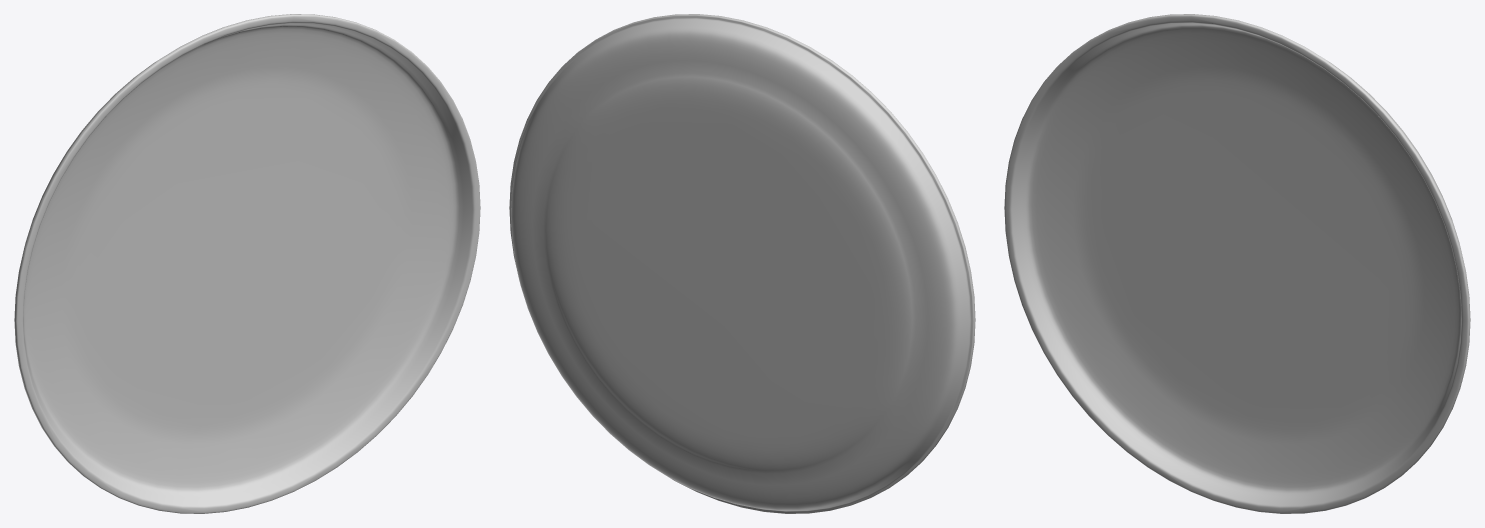
The model's file is disc001.obj.
The picture shows the model from 3 angles, left to right: view 1: azimuth 30°, elevation 25°; view 2: azimuth 150°, elevation 25°; view 3: azimuth 330°, elevation 25°; orthographic projection.
Parts seen in each view (by area): view 1: Microwave011_Disc001; view 2: Microwave011_Disc001; view 3: Microwave011_Disc001.
Boxes of the visible parts, x1,y1,x2,y2 form: Microwave011_Disc001: (14, 14, 480, 513); Microwave011_Disc001: (509, 14, 975, 513); Microwave011_Disc001: (1004, 14, 1470, 513).
Size of the model in its own units: 0.3037 by 0.3037 by 0.0186.
Materials: 1 (1 with a texture image).
